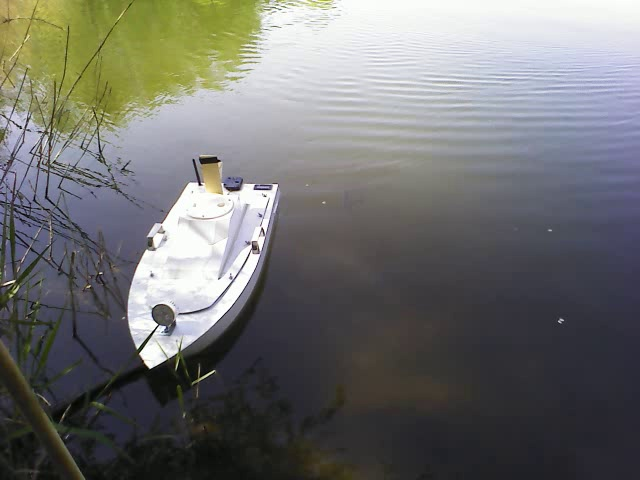boat: (126, 170, 282, 378)
